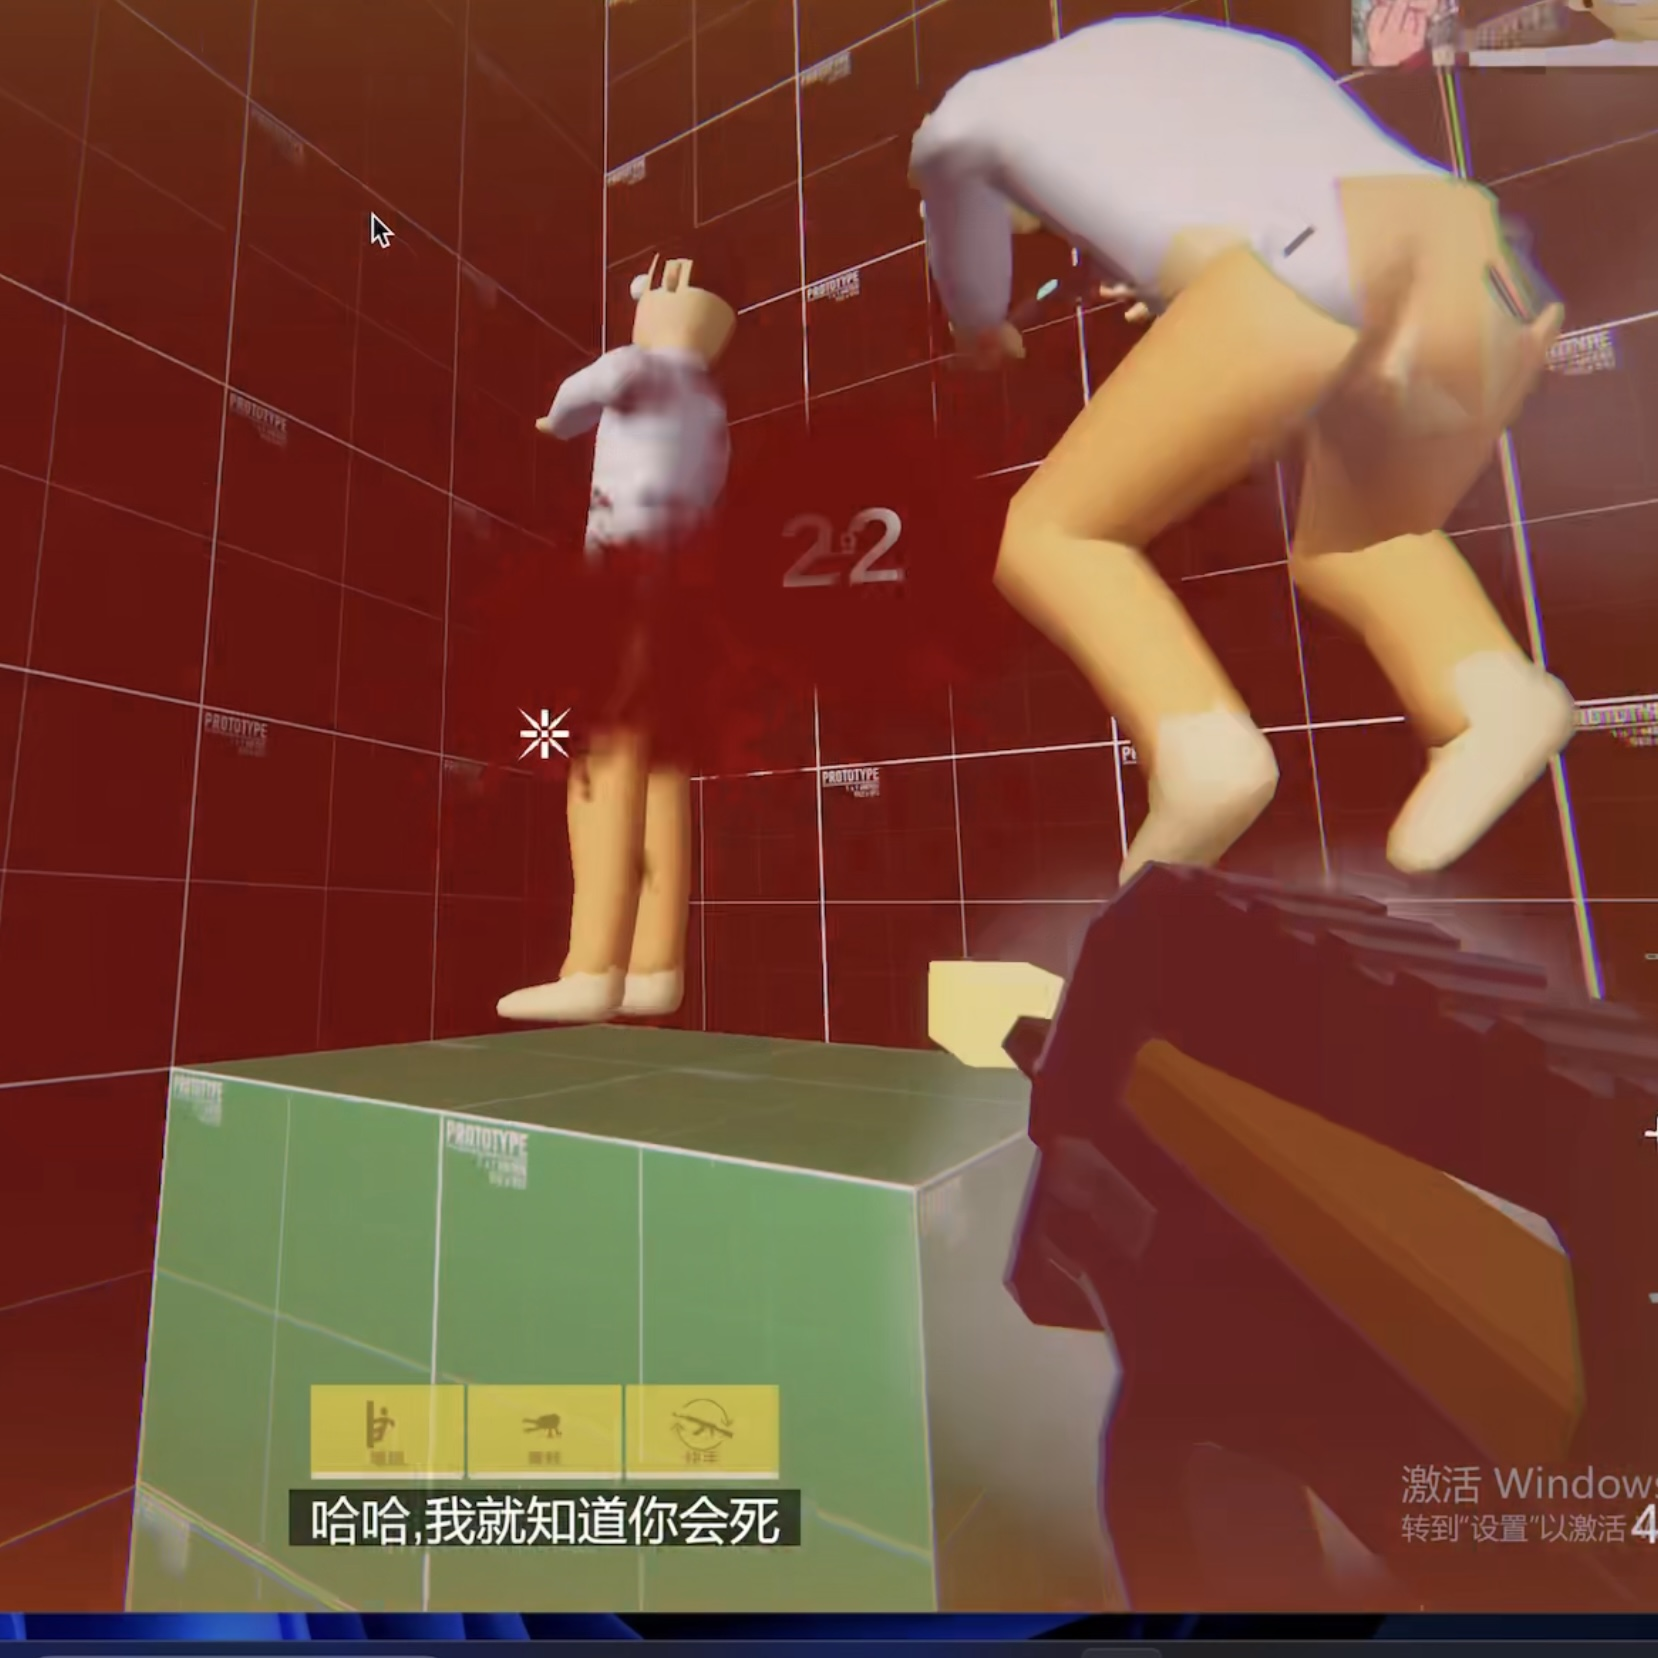human: (990, 38, 1554, 891)
